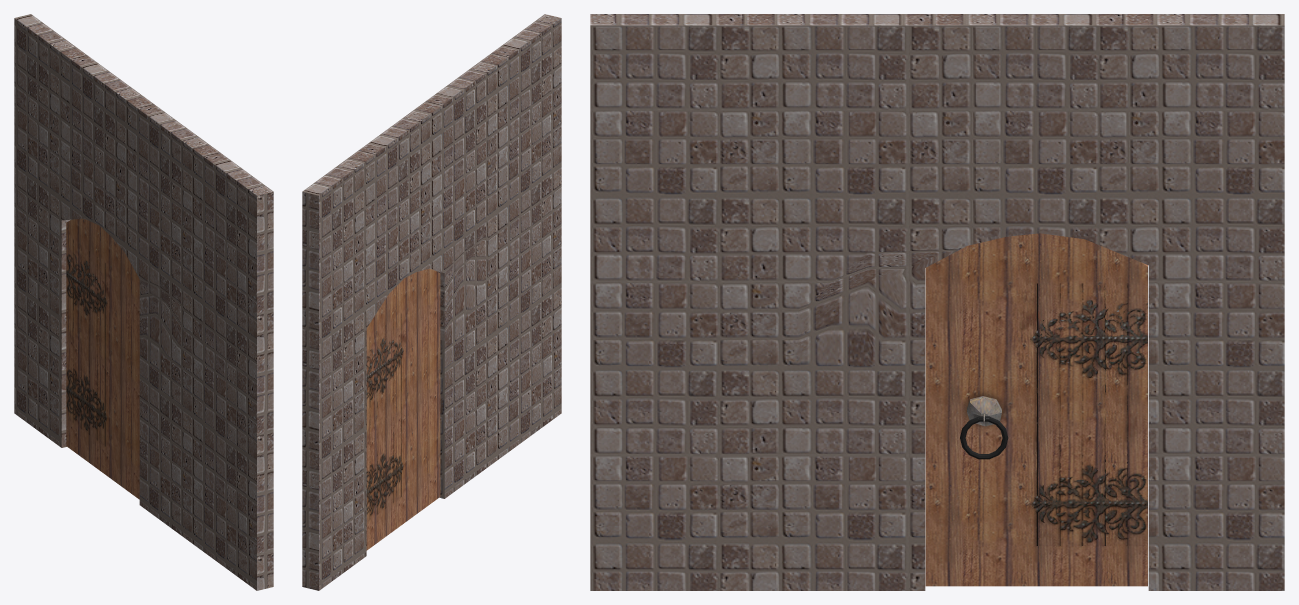
File: Door.fbx
The picture shows the model from 3 angles, left to right: view 1: azimuth 30°, elevation 25°; view 2: azimuth 150°, elevation 25°; view 3: azimuth 270°, elevation 25°; orthographic projection. The views are drawn at different scales.
Parts seen in each view (by area): view 1: pCube2, polySurface1; view 2: pCube2, polySurface1; view 3: pCube2, polySurface1.
Boxes of the visible parts, box(x1,y1,x2,y2) form: pCube2: box(14, 14, 273, 590); polySurface1: box(66, 218, 139, 499); pCube2: box(302, 14, 561, 590); polySurface1: box(366, 268, 440, 550); pCube2: box(590, 14, 1284, 590); polySurface1: box(925, 233, 1147, 586).
Size of the model in its own units: 1.7 by 22.45 by 25.
